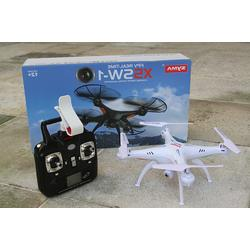drone: (117, 120, 240, 206), (68, 84, 169, 138)
